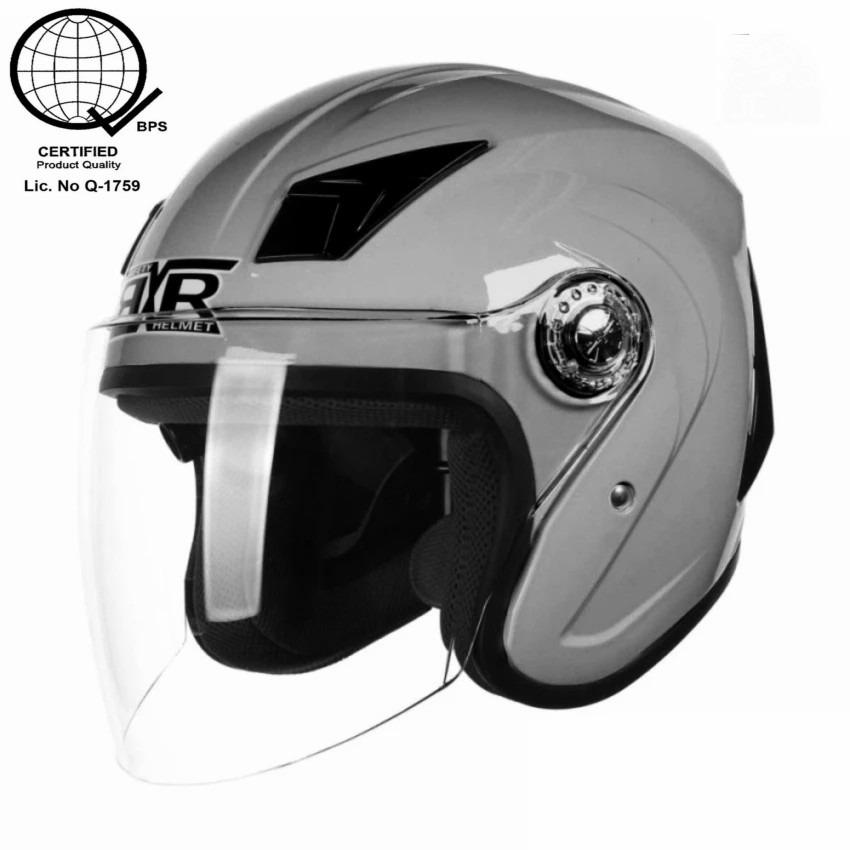with_helmet: (70, 49, 778, 790)
